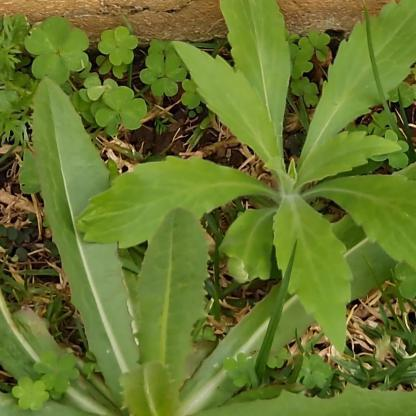Weeds: (0, 73, 415, 415), (75, 0, 415, 356)
